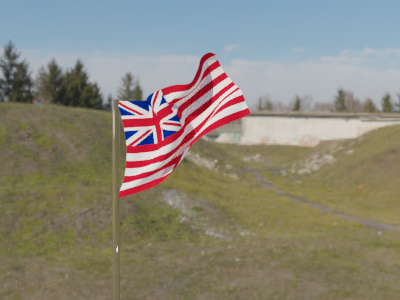Malaysia flag: (119, 51, 252, 196)
